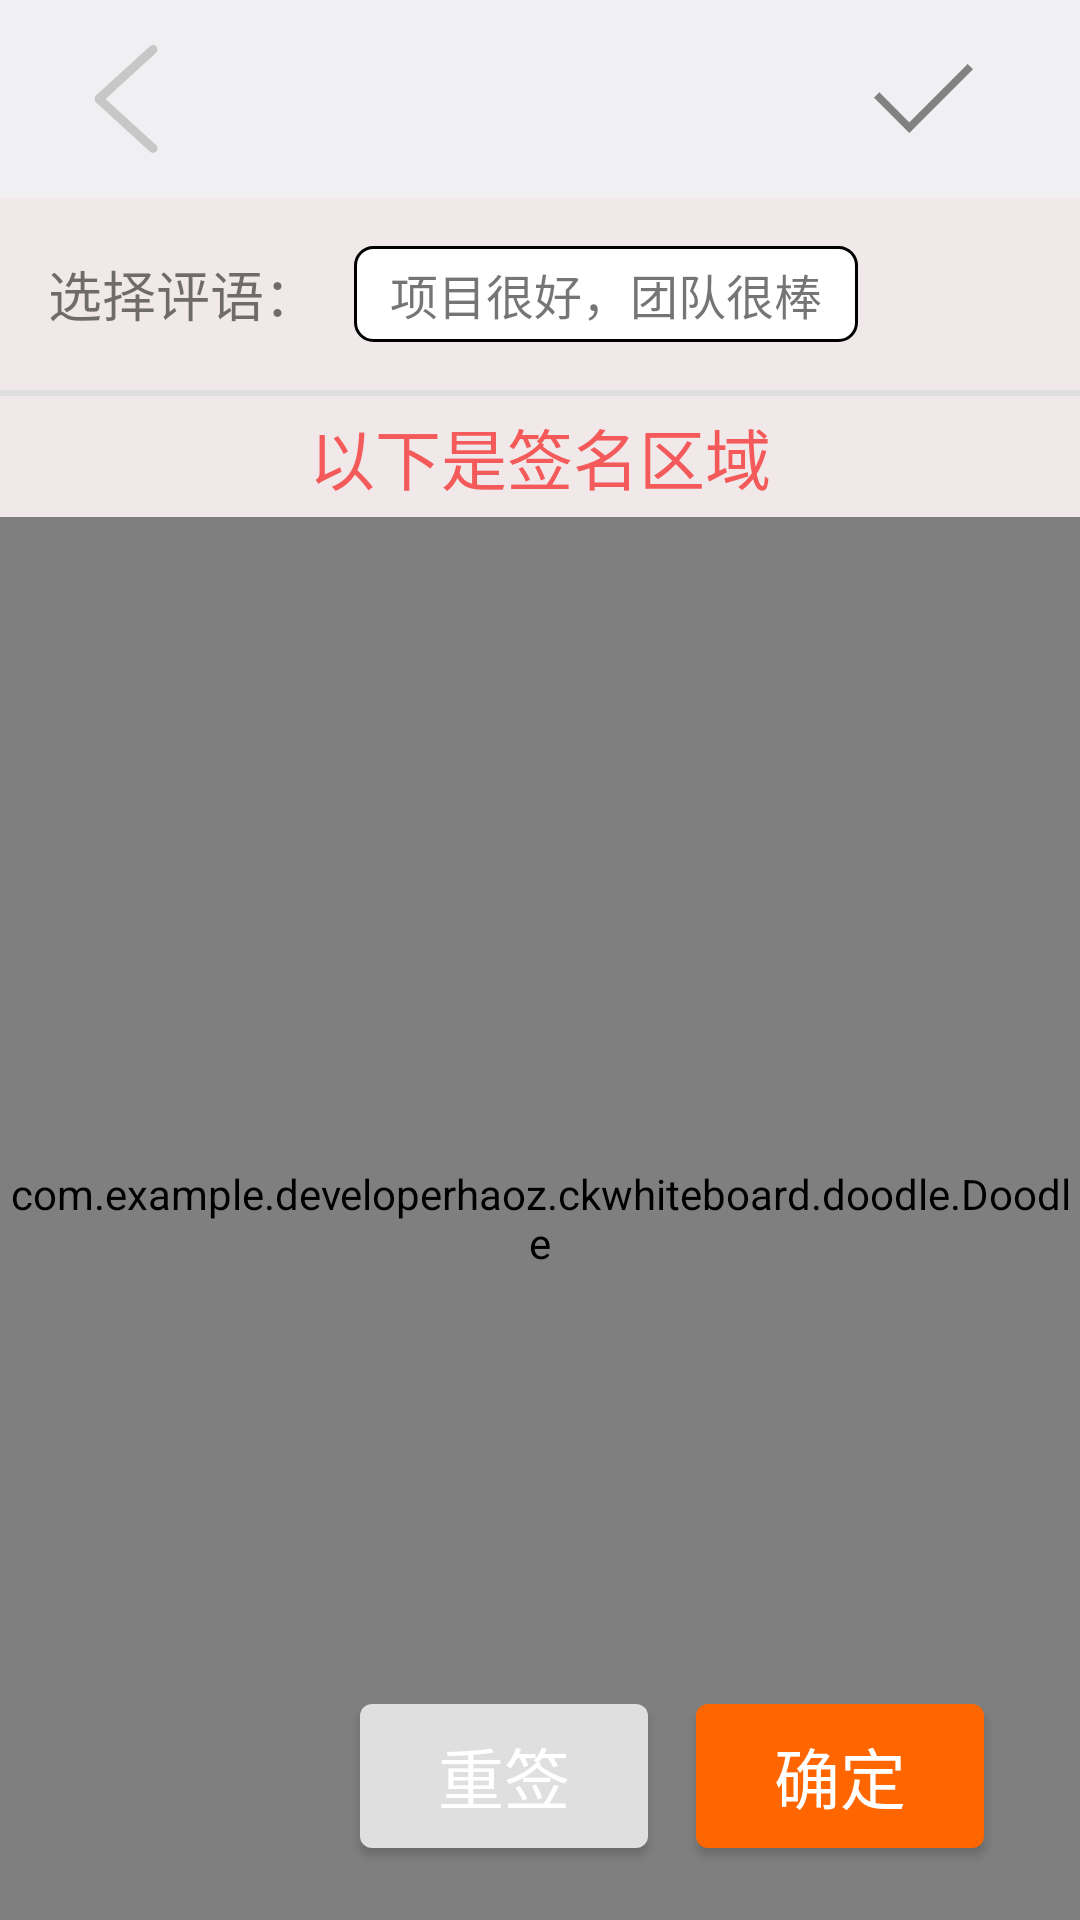

Icons on this 1080px x 1920px Android screen, each with its box as (left=x1, top=y1, right=x2, bottom=y2):
确定: (left=874, top=64, right=973, bottom=133)
返回: (left=95, top=45, right=157, bottom=153)
